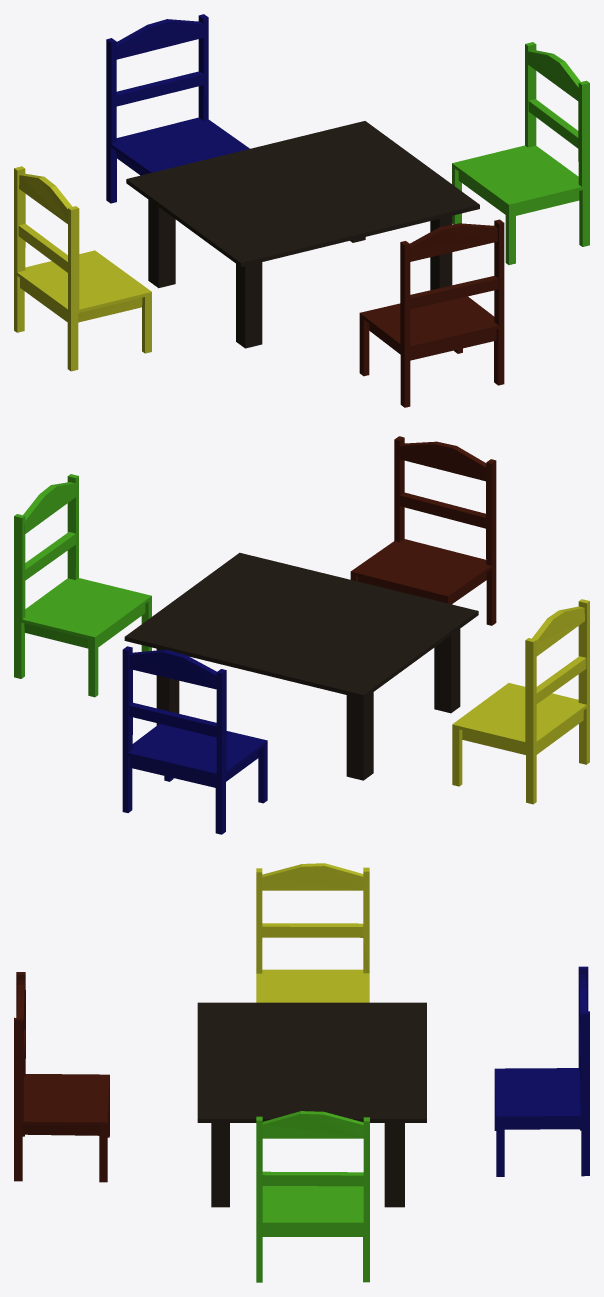
File: Mesa y silla de juguete HappyToyShop.fbx
The picture shows the model from 3 angles, top to bottom: view 1: azimuth 30°, elevation 25°; view 2: azimuth 150°, elevation 25°; view 3: azimuth 270°, elevation 25°; orthographic projection.
Visible parts, largest first — view 1: Mesa Juguete, Silla Juguete 3, Silla Juguete, Silla Juguete 4, Silla Juguete 2; view 2: Mesa Juguete, Silla Juguete 2, Silla Juguete 3, Silla Juguete, Silla Juguete 4; view 3: Mesa Juguete, Silla Juguete, Silla Juguete 4, Silla Juguete 2, Silla Juguete 3.
Boxes of the visible parts, x1,y1,x2,y2 form: Mesa Juguete: [126, 121, 479, 348]; Silla Juguete 3: [359, 219, 504, 407]; Silla Juguete: [452, 42, 589, 264]; Silla Juguete 4: [14, 166, 151, 371]; Silla Juguete 2: [106, 14, 249, 203]; Mesa Juguete: [124, 552, 478, 780]; Silla Juguete 2: [122, 646, 267, 834]; Silla Juguete 3: [350, 436, 496, 625]; Silla Juguete: [14, 474, 151, 697]; Silla Juguete 4: [452, 599, 589, 804]; Mesa Juguete: [197, 1002, 426, 1207]; Silla Juguete: [256, 1111, 369, 1282]; Silla Juguete 4: [256, 863, 369, 1002]; Silla Juguete 2: [494, 966, 589, 1176]; Silla Juguete 3: [14, 972, 109, 1182].
Size of the model in its own units: 146 by 45.83 by 140.
